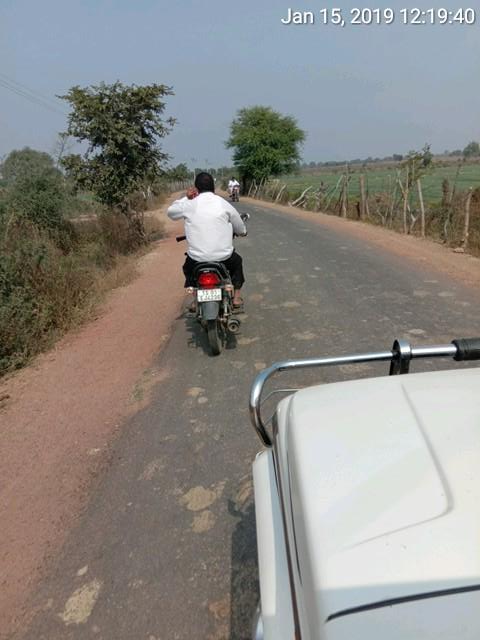plate: (192, 283, 228, 304)
